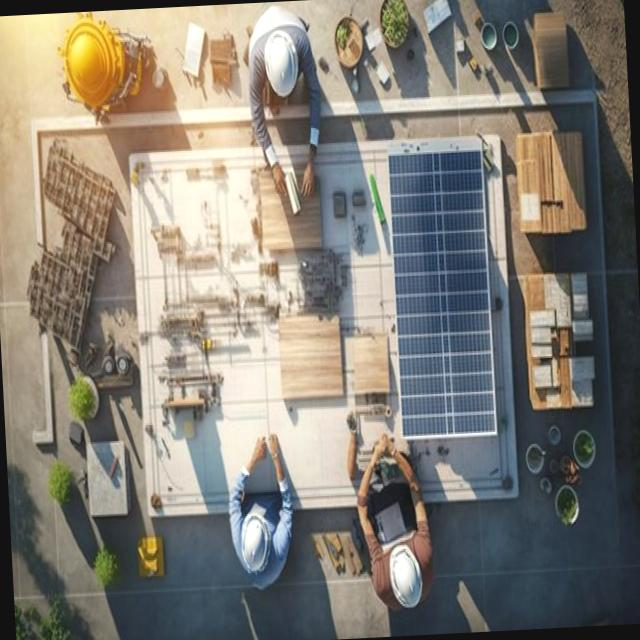helmet: (260, 30, 301, 94), (388, 540, 422, 614), (236, 515, 278, 571)
